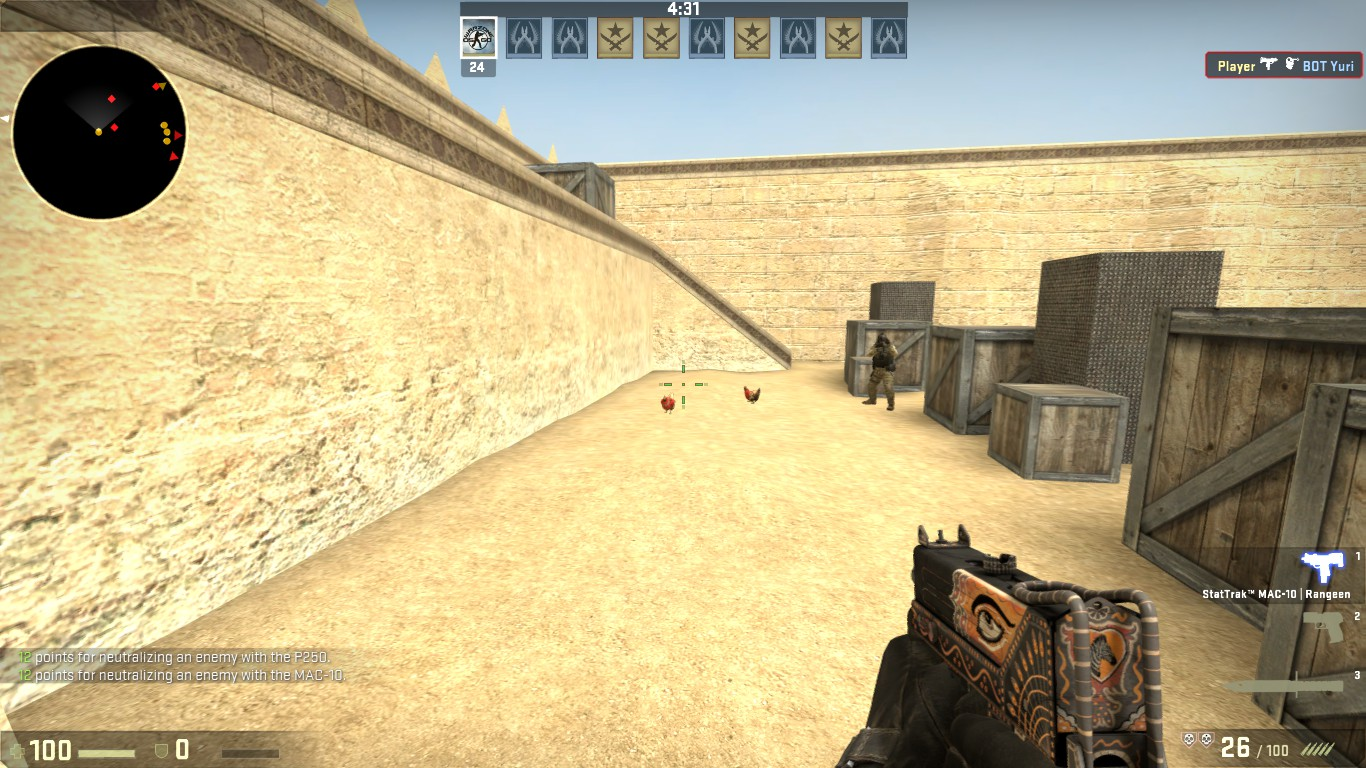c: (865, 333, 899, 407)
ch: (874, 332, 891, 348)
